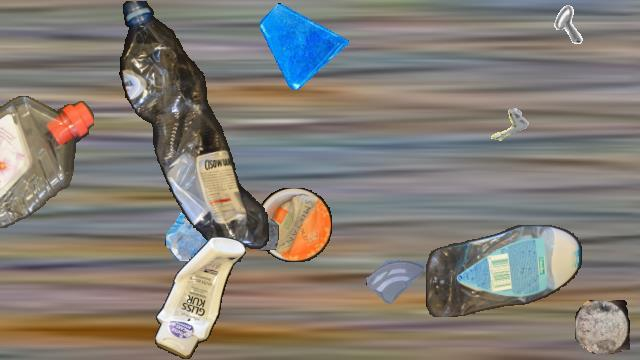glass: (260, 1, 348, 89), (165, 179, 247, 261), (213, 186, 279, 252), (366, 245, 428, 307)
metal: (522, 1, 584, 63), (473, 99, 533, 159)
plastic: (117, 1, 273, 261), (0, 96, 94, 264), (426, 225, 582, 317), (155, 237, 245, 359), (257, 188, 331, 262)
wood: (575, 300, 629, 354)
